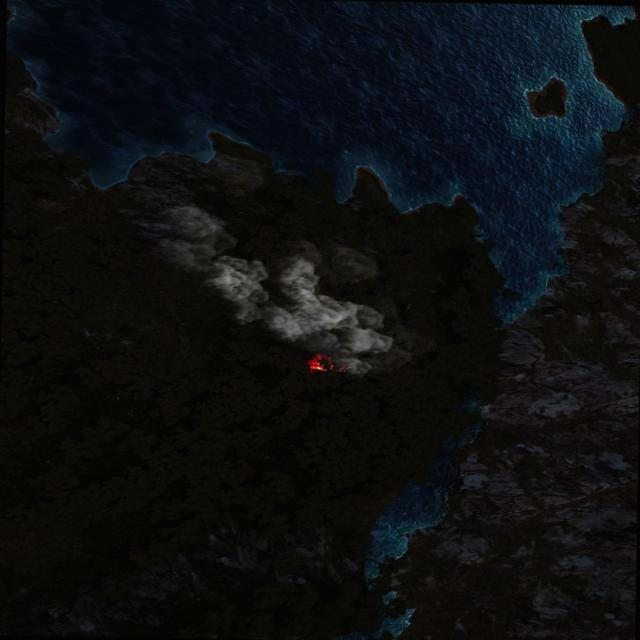fire: (306, 354, 332, 372)
smoke: (145, 204, 390, 376)
